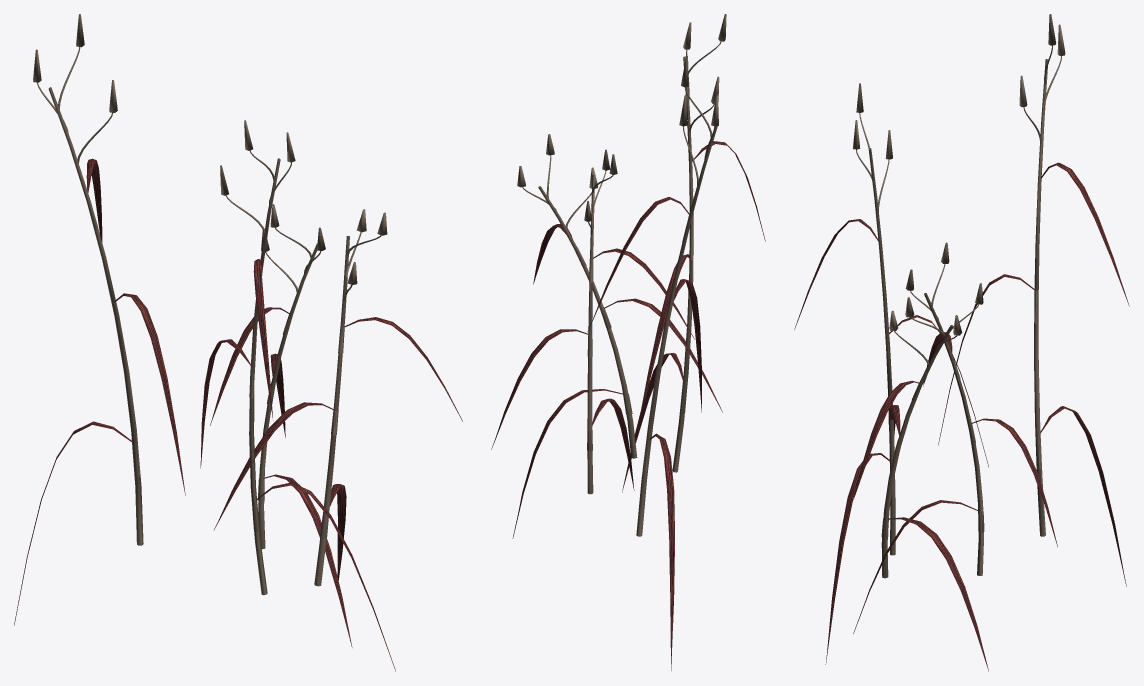
Rendered from dryshoots_05.glb.
3 renders of one model, left to right at view 1: azimuth 30°, elevation 25°; view 2: azimuth 150°, elevation 25°; view 3: azimuth 270°, elevation 25°, orthographic. The views are drawn at different scales.
Visible parts, largest first — view 1: export; view 2: export; view 3: export.
Part boxes in pixels (<box>): export: <box>14,14,462,671</box>; export: <box>491,14,765,670</box>; export: <box>794,14,1129,671</box>.
Size of the model in its own units: 0.9065 by 1.74 by 0.907.
Materials: 2 (2 with a texture image).
